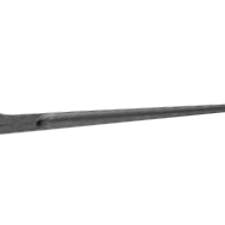Wrench: (1, 90, 225, 133)
